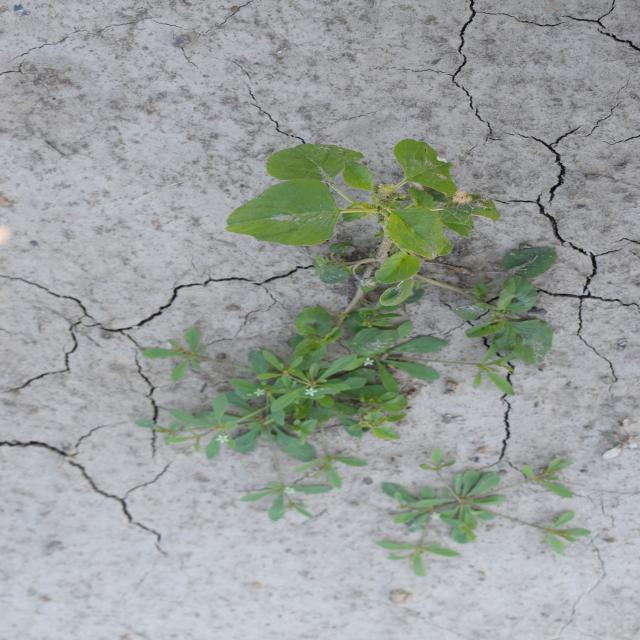Carpetweed: (133, 269, 521, 522), (375, 447, 593, 577)
PalmerAmaranth: (222, 136, 560, 366)
